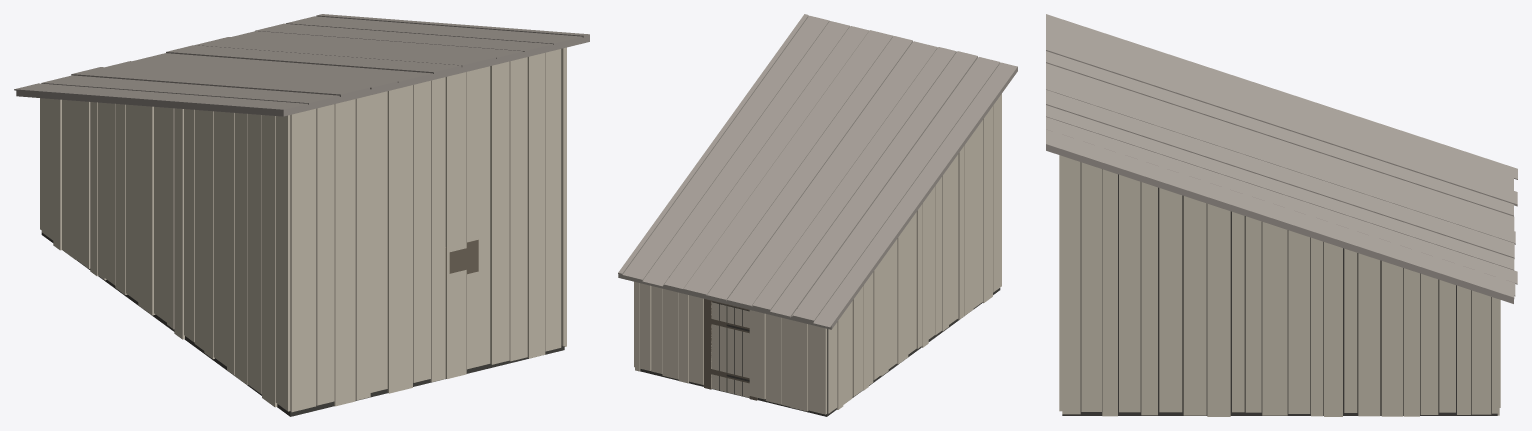
File: recon_1835_west_028__inferred_1835.glb
The picture shows the model from 3 angles, left to right: view 1: azimuth 30°, elevation 25°; view 2: azimuth 150°, elevation 25°; view 3: azimuth 270°, elevation 25°; orthographic projection. The views are drawn at different scales.
Parts seen in each view (by area): view 1: recon_1835_west_028__inferred_1835; view 2: recon_1835_west_028__inferred_1835; view 3: recon_1835_west_028__inferred_1835.
Boxes of the visible parts, left/top/right/bottom form: recon_1835_west_028__inferred_1835: left=14, top=14, right=589, bottom=416; recon_1835_west_028__inferred_1835: left=618, top=14, right=1017, bottom=416; recon_1835_west_028__inferred_1835: left=1046, top=14, right=1517, bottom=416.
Bounding box in the file's own units: 4.76 × 4.74 × 7.26.
